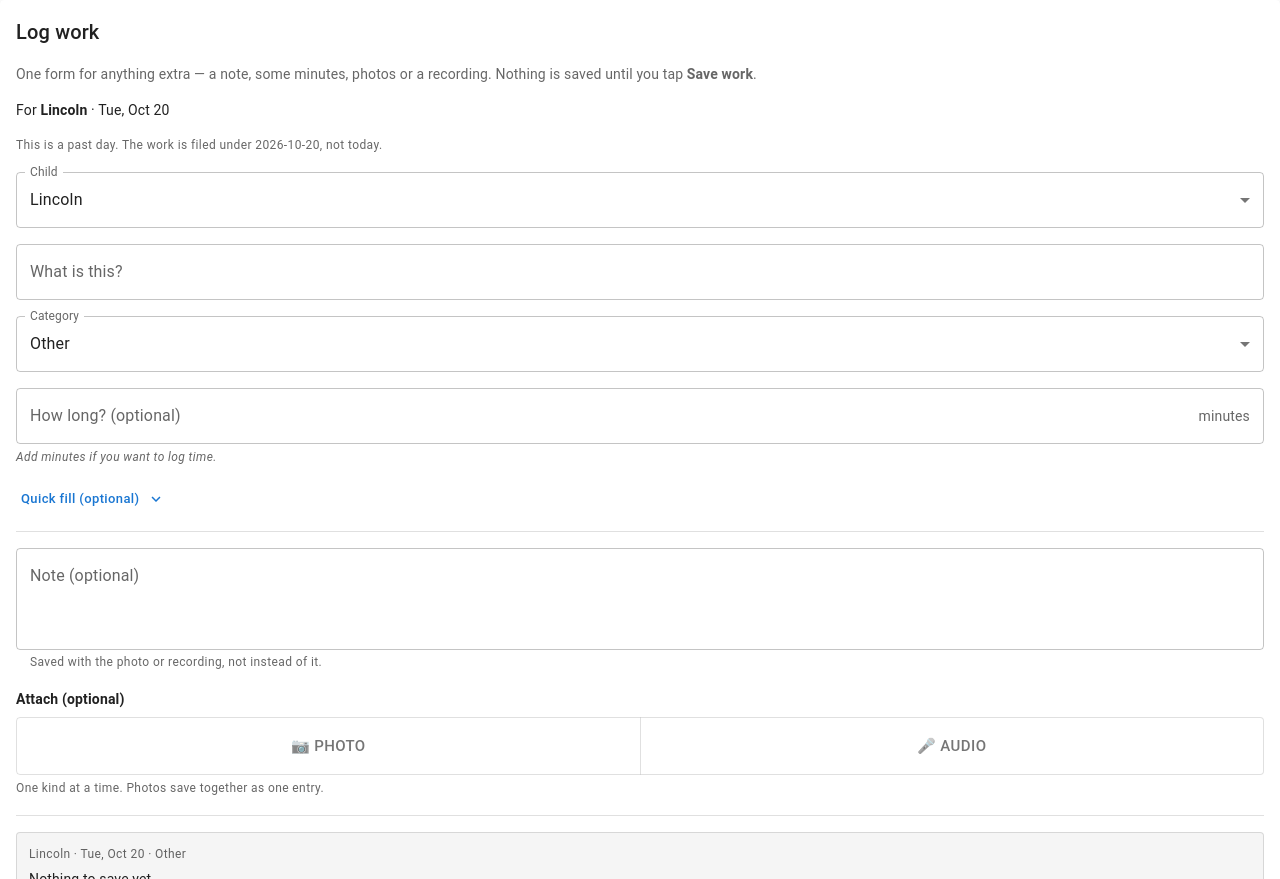
Test: Log work + real AudioRecorder — a stopped take is in the draft › records under StrictMode, where a cleanup-only liveness flag refused everything
Click the button "🎤 Audio". click: (952,746)
box: [640,716,1264,775]
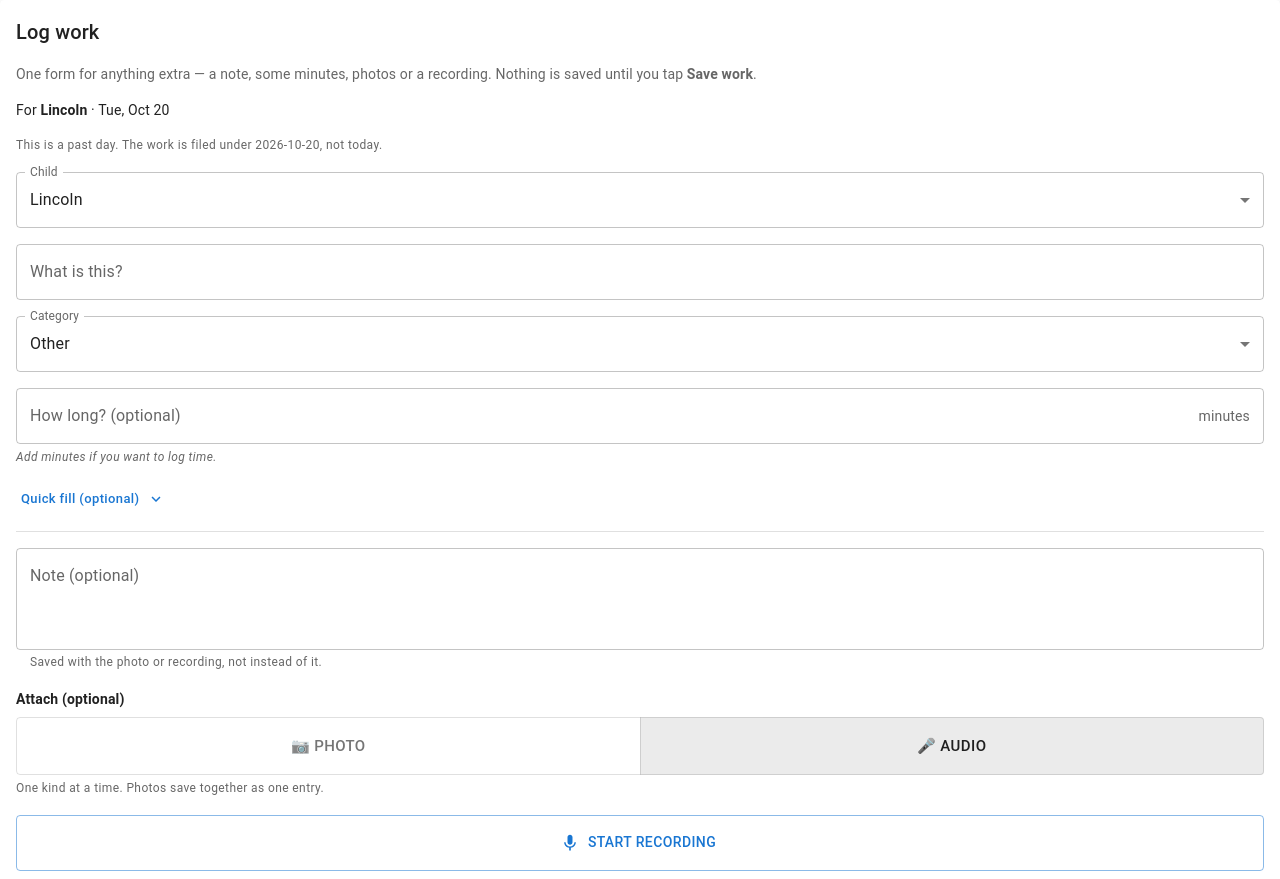
Click the button "Start Recording". click: (640,843)
box: [16,815,1264,871]
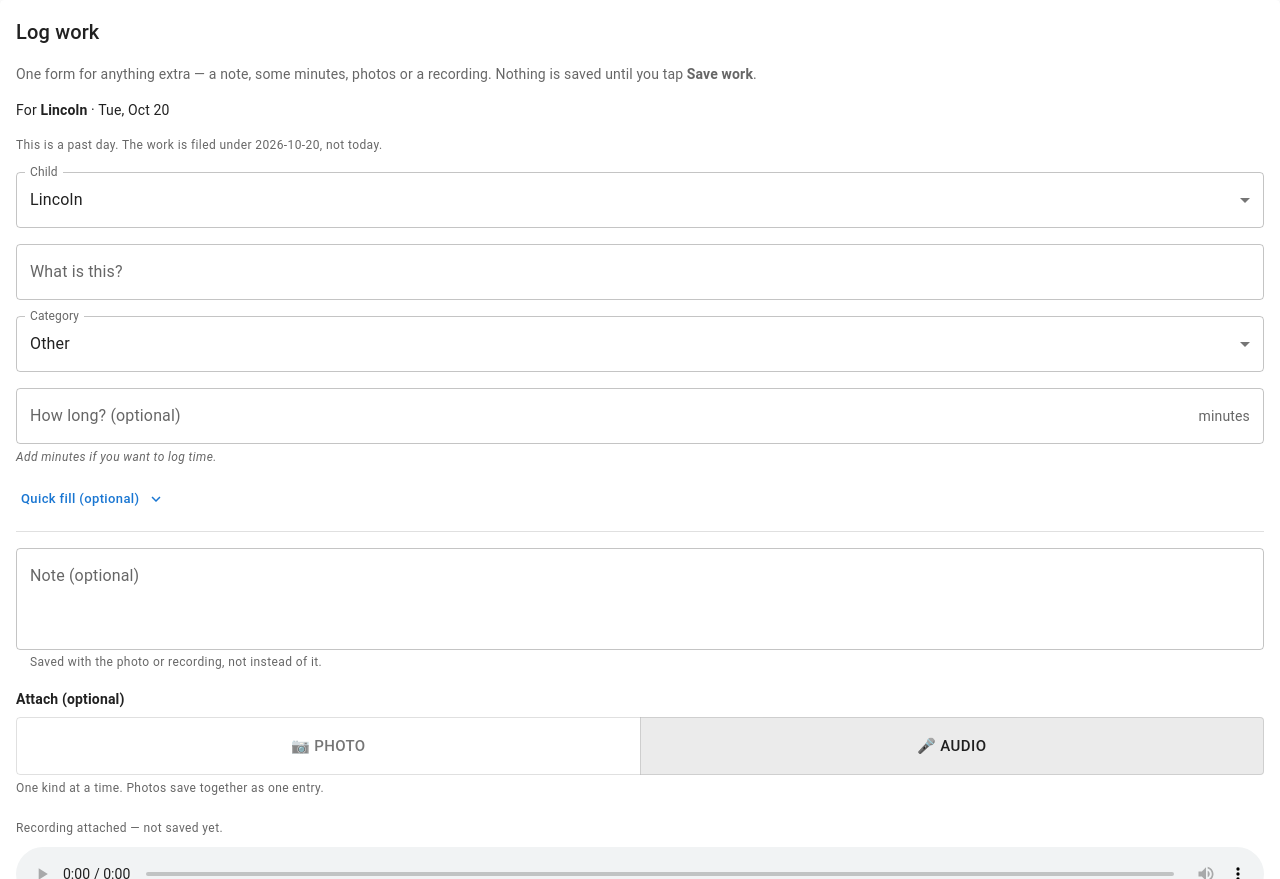
Expected: the text "Recording attached — not saved yet." is shown, [16,821,223,835]
